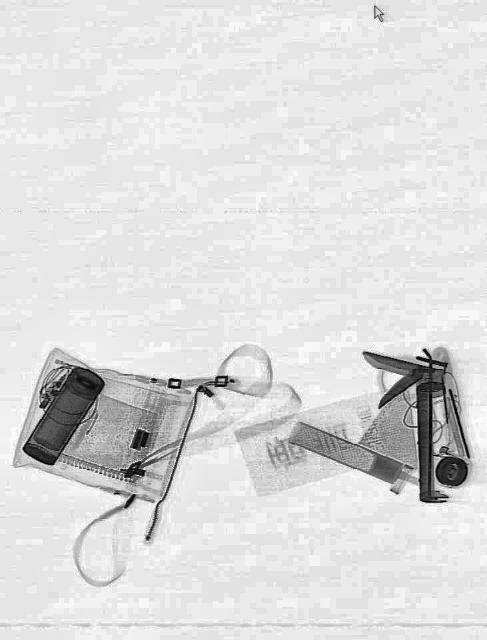Knife: (362, 349, 448, 505)
